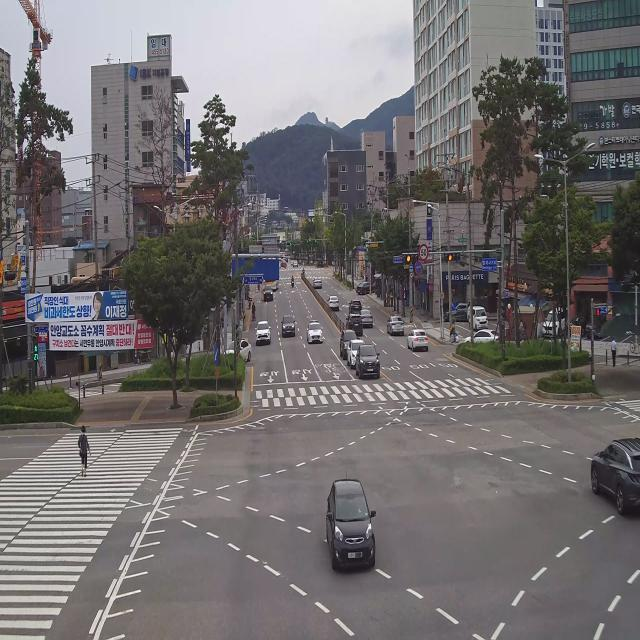Bus: (264, 272, 280, 290)
Car: (322, 471, 383, 585), (589, 422, 640, 518), (400, 321, 436, 366), (354, 337, 385, 384), (300, 316, 332, 353), (222, 334, 254, 365), (463, 326, 504, 350), (583, 302, 606, 342), (255, 313, 274, 355), (568, 301, 588, 340), (281, 303, 300, 343), (543, 303, 564, 339), (441, 299, 469, 325), (338, 323, 356, 360), (469, 305, 490, 333), (346, 337, 364, 367), (385, 311, 403, 337), (346, 312, 364, 336), (263, 284, 278, 312), (356, 277, 378, 296), (325, 290, 341, 315), (348, 294, 364, 318), (360, 305, 377, 327), (313, 272, 324, 291), (314, 257, 324, 268)
Motorcycle: (289, 269, 299, 298), (302, 267, 305, 278)
